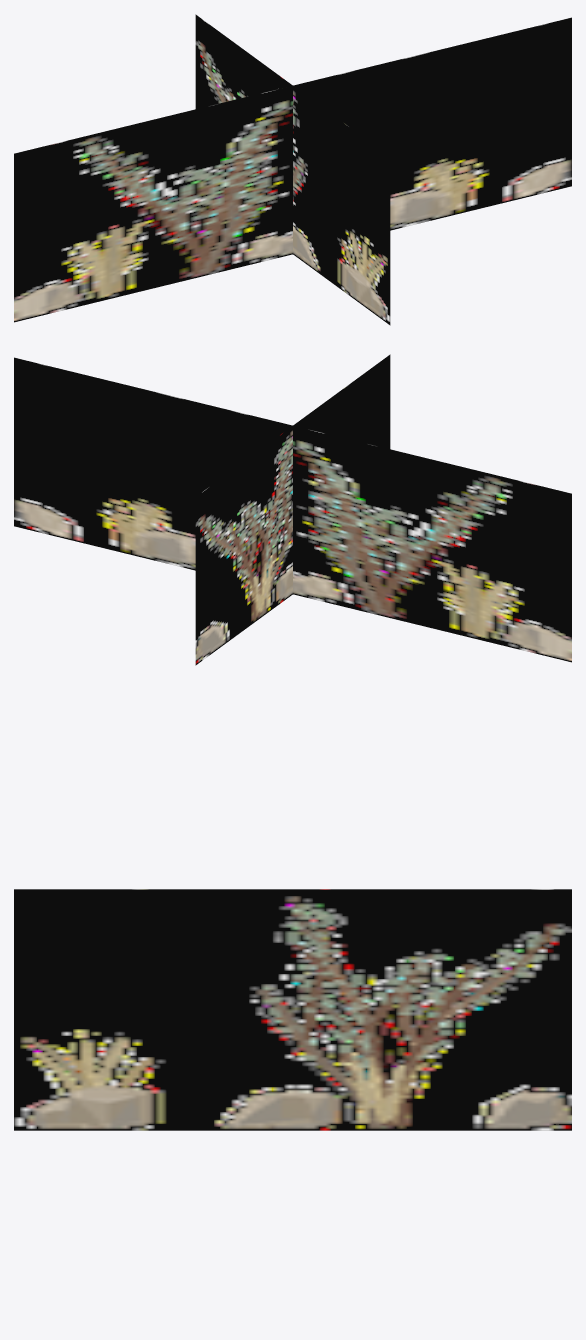
The model's file is c04-far.glb.
The picture shows the model from 3 angles, top to bottom: view 1: azimuth 30°, elevation 25°; view 2: azimuth 150°, elevation 25°; view 3: azimuth 270°, elevation 25°; orthographic projection. The views are drawn at different scales.
Size of the model in its own units: 1.35 by 0.3901 by 0.8166.
Materials: 1 (1 with a texture image).
